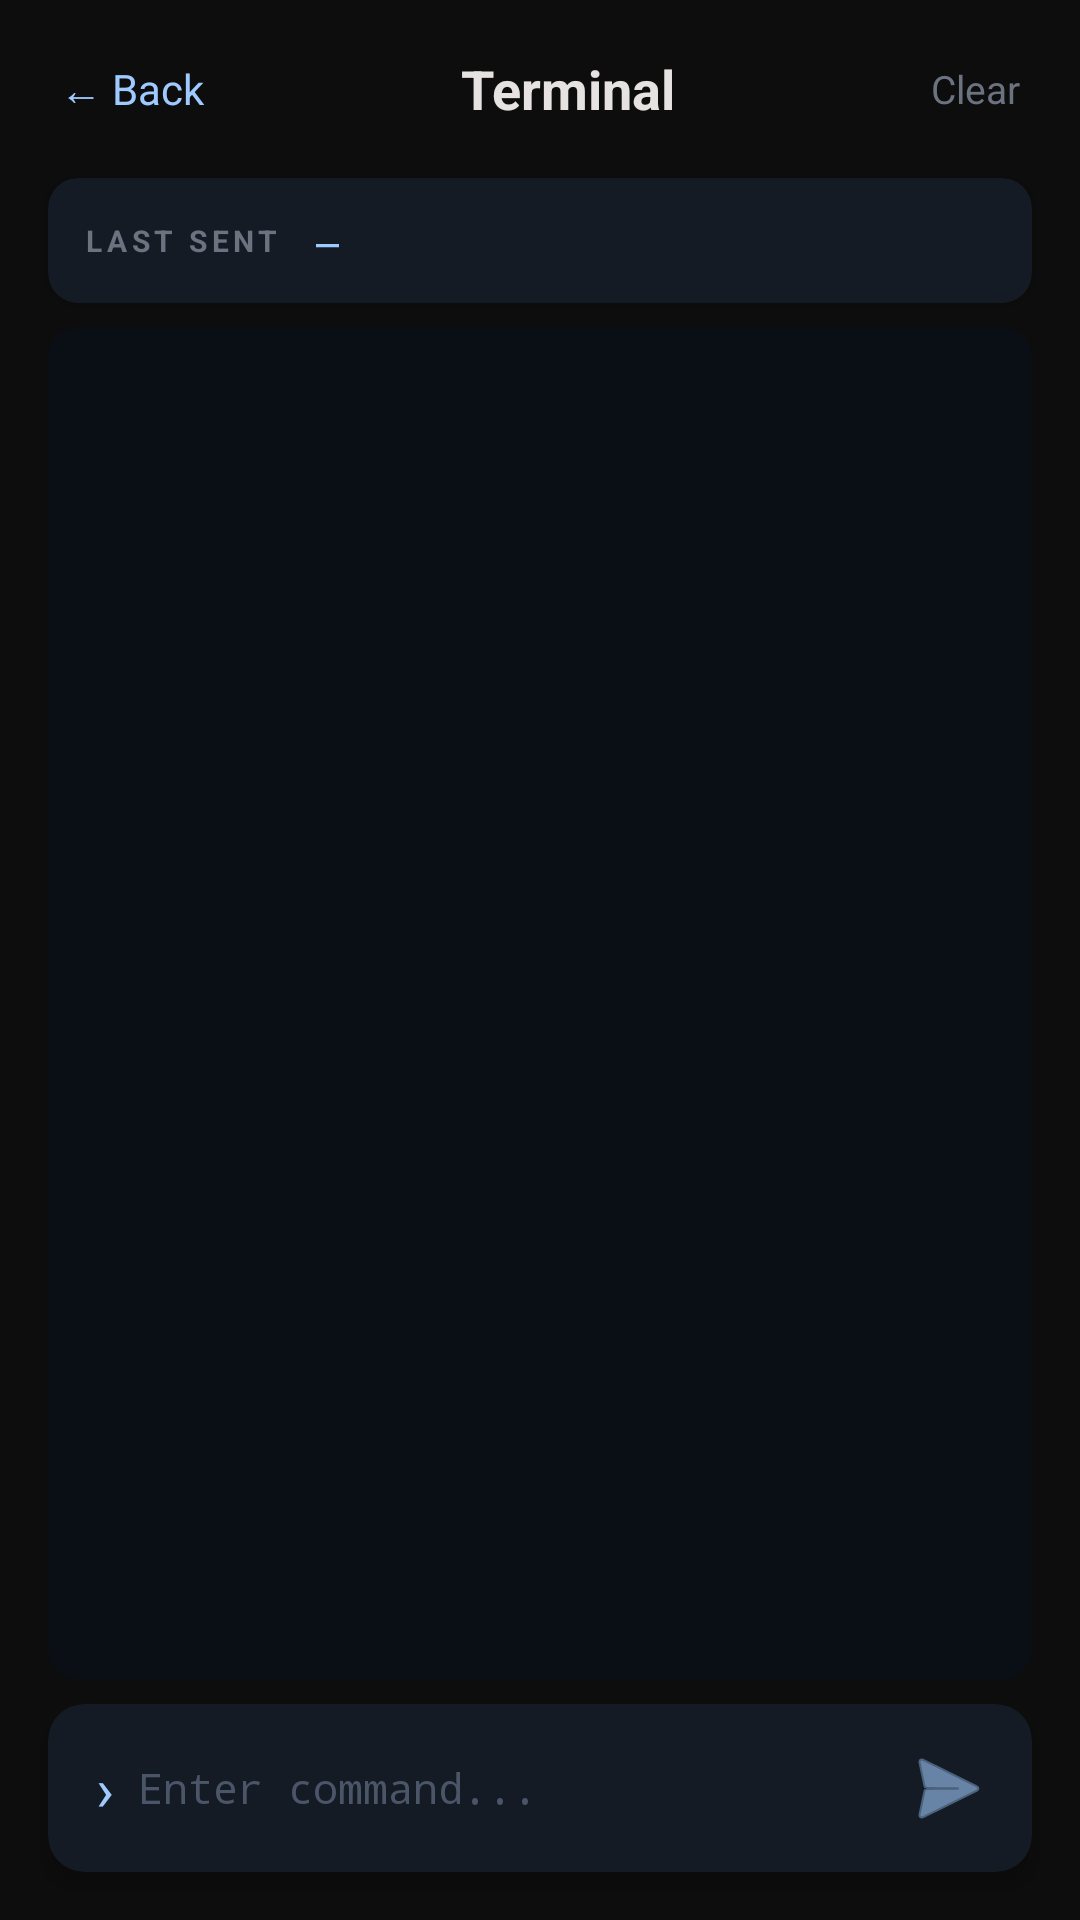

Icon bounding boxes for this 1080px x 1920px phone screenshot, format bbox(x1, y1, x2, y2):
Send: bbox(918, 1758, 980, 1819)
